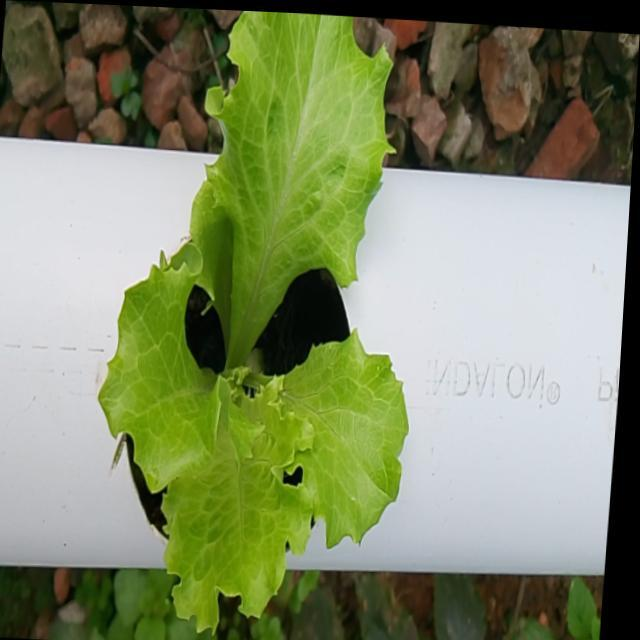Baby: (98, 11, 408, 634)
